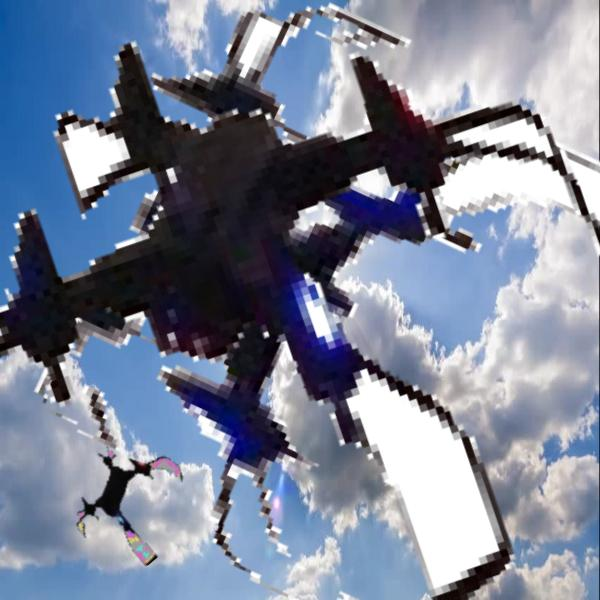drone: (68, 438, 193, 563)
